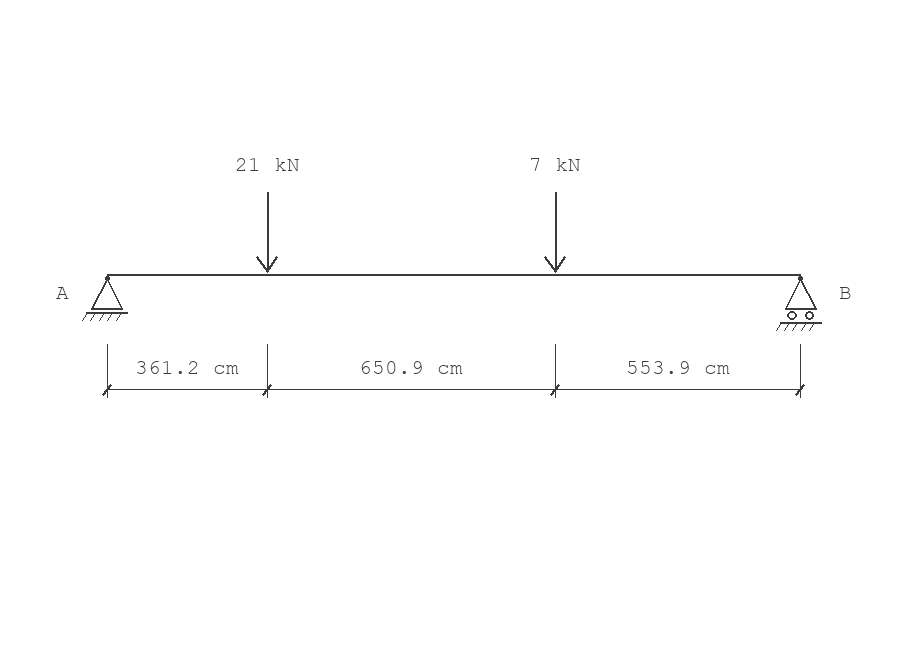pin_support: (82, 276, 128, 321)
point_load: (256, 192, 278, 273), (544, 192, 566, 273)
roller_support: (776, 276, 822, 331)
